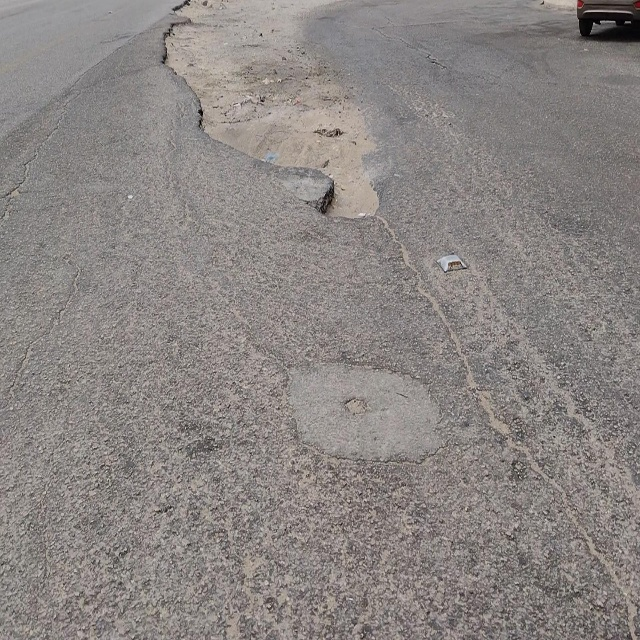pothole: (318, 169, 386, 222), (196, 90, 233, 148), (160, 34, 194, 81), (168, 20, 194, 37), (171, 1, 189, 19)
